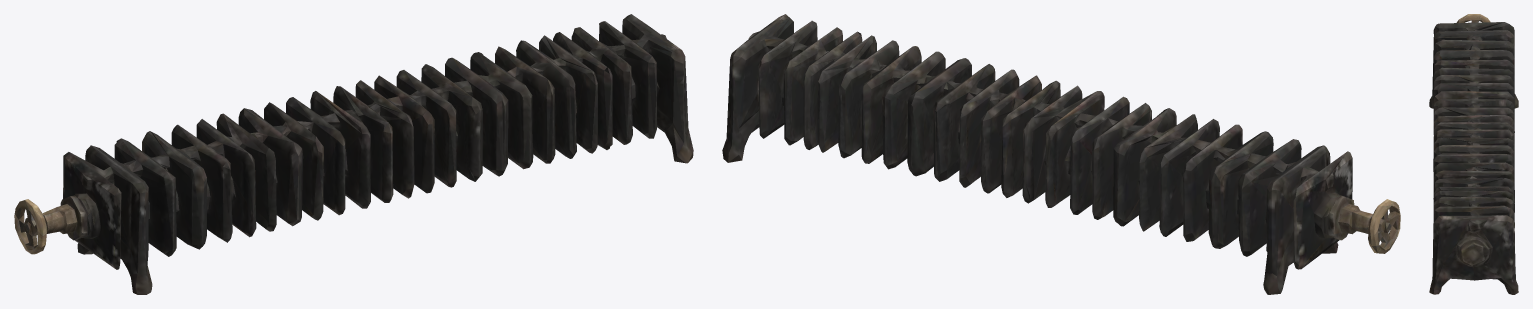
The model's file is heater.glb.
3 renders of one model, left to right at view 1: azimuth 30°, elevation 25°; view 2: azimuth 150°, elevation 25°; view 3: azimuth 270°, elevation 25°, orthographic. The views are drawn at different scales.
Visible parts, largest first — view 1: Mesh_0; view 2: Mesh_0; view 3: Mesh_0.
Boxes of the visible parts, x1,y1,x2,y2 form: Mesh_0: (14,14,693,294); Mesh_0: (722,14,1400,294); Mesh_0: (1429,14,1518,294).
Bounding box in the file's own units: 1.9 × 0.3082 × 0.3233.
1 material, 1 textured.
